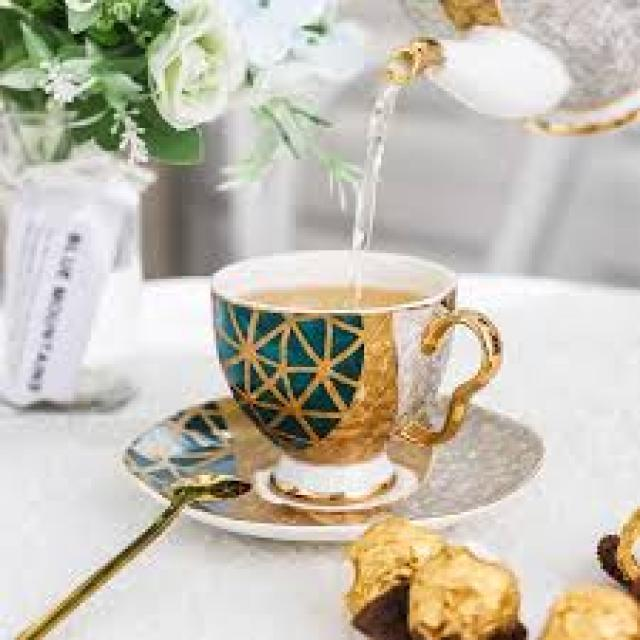taza: (191, 225, 510, 514)
